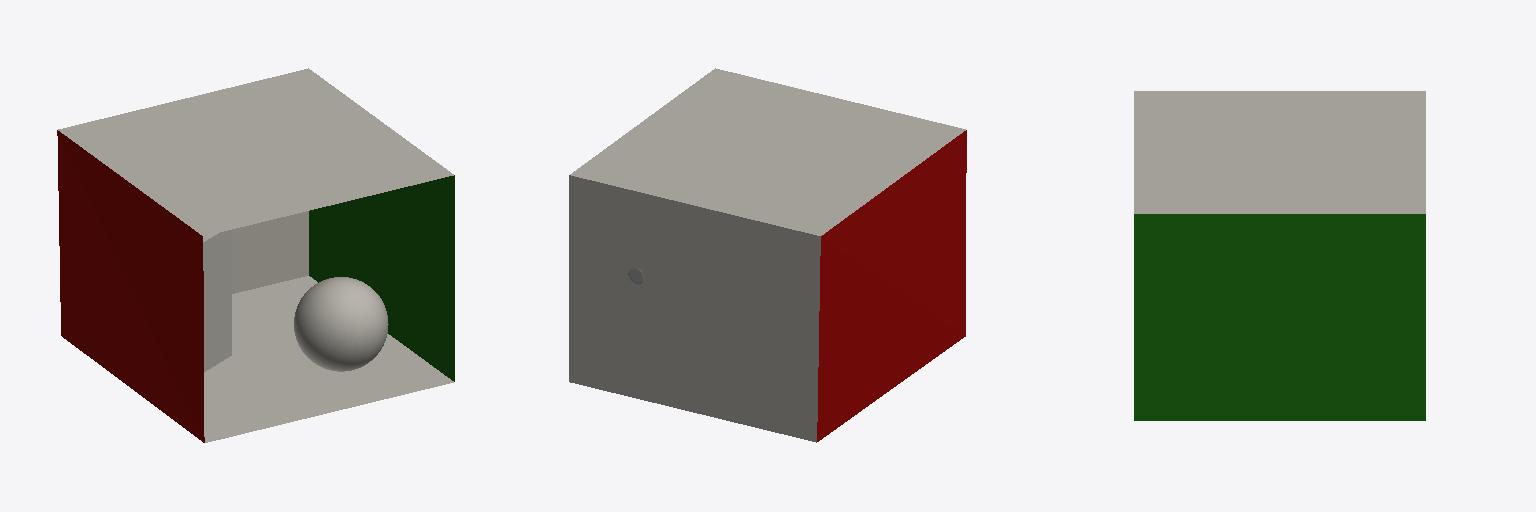
File: cbox.obj
The picture shows the model from 3 angles: view 1: azimuth 30°, elevation 25°; view 2: azimuth 150°, elevation 25°; view 3: azimuth 270°, elevation 25°; orthographic projection.
Visible parts, largest first — view 1: ceiling, leftWall, rightWall, floor, rightSphere, backWall, leftBox; view 2: backWall, ceiling, leftWall; view 3: rightWall, ceiling.
Boxes of the visible parts, x1=… form: ceiling: x1=58, y1=68, x2=453, y2=236; leftWall: x1=57, y1=130, x2=204, y2=442; rightWall: x1=309, y1=175, x2=454, y2=381; floor: x1=204, y1=276, x2=453, y2=442; rightSphere: x1=294, y1=277, x2=388, y2=371; backWall: x1=232, y1=211, x2=308, y2=293; leftBox: x1=203, y1=230, x2=231, y2=371; backWall: x1=569, y1=175, x2=820, y2=442; ceiling: x1=570, y1=68, x2=965, y2=235; leftWall: x1=817, y1=130, x2=966, y2=441; rightWall: x1=1134, y1=214, x2=1425, y2=420; ceiling: x1=1134, y1=91, x2=1425, y2=213.
Bounding box in the file's own units: 2.02 × 1.59 × 2.03.